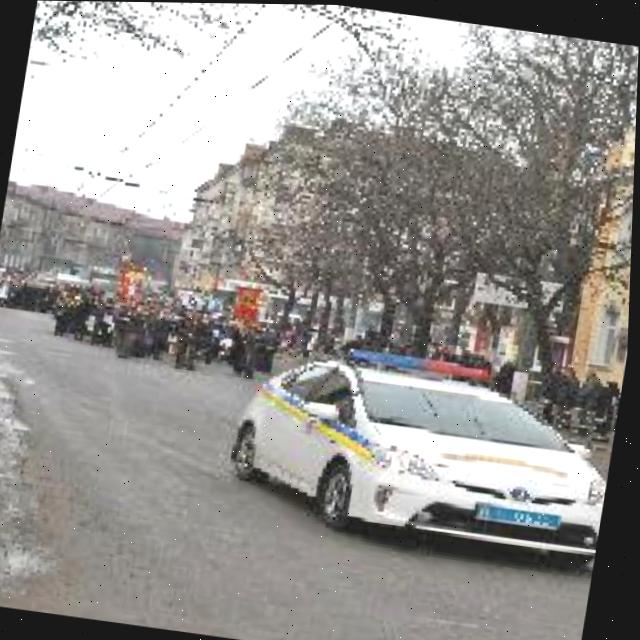emergency: (218, 333, 625, 569)
